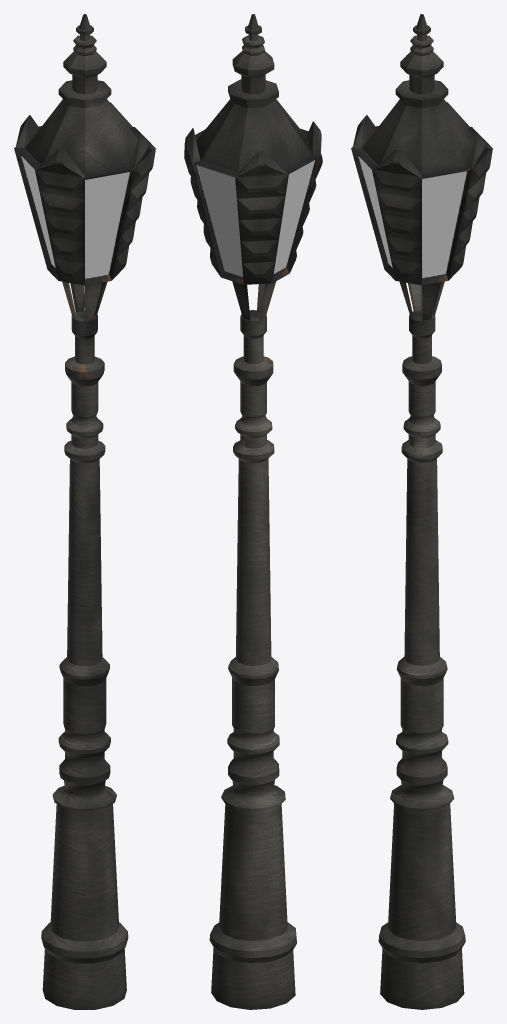
3 renders of one model, left to right at view 1: azimuth 90°, elevation 25°; view 2: azimuth 210°, elevation 25°; view 3: azimuth 270°, elevation 25°, orthographic.
Parts seen in each view (by area): view 1: Laterne 1_Material #47_0; view 2: Laterne 1_Material #47_0; view 3: Laterne 1_Material #47_0.
Boxes of the visible parts, x1,y1,x2,y2 form: Laterne 1_Material #47_0: (14,14,155,1009); Laterne 1_Material #47_0: (184,14,322,1009); Laterne 1_Material #47_0: (351,14,492,1009).
Bounding box in the file's own units: 39.75 × 302 × 39.75.
Materials: 1 (1 with a texture image).
